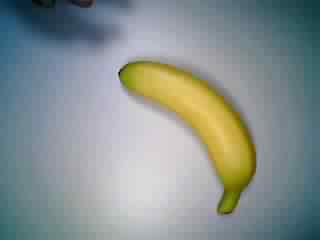banana: (114, 56, 260, 214)
